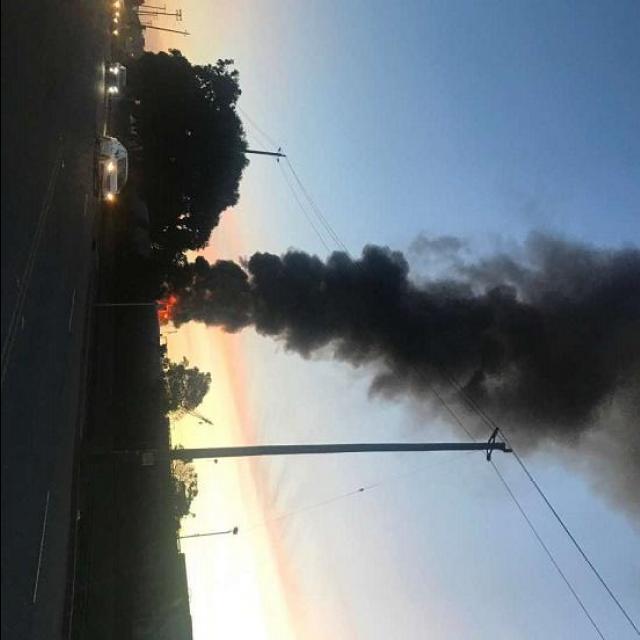Fire: (156, 286, 184, 332)
